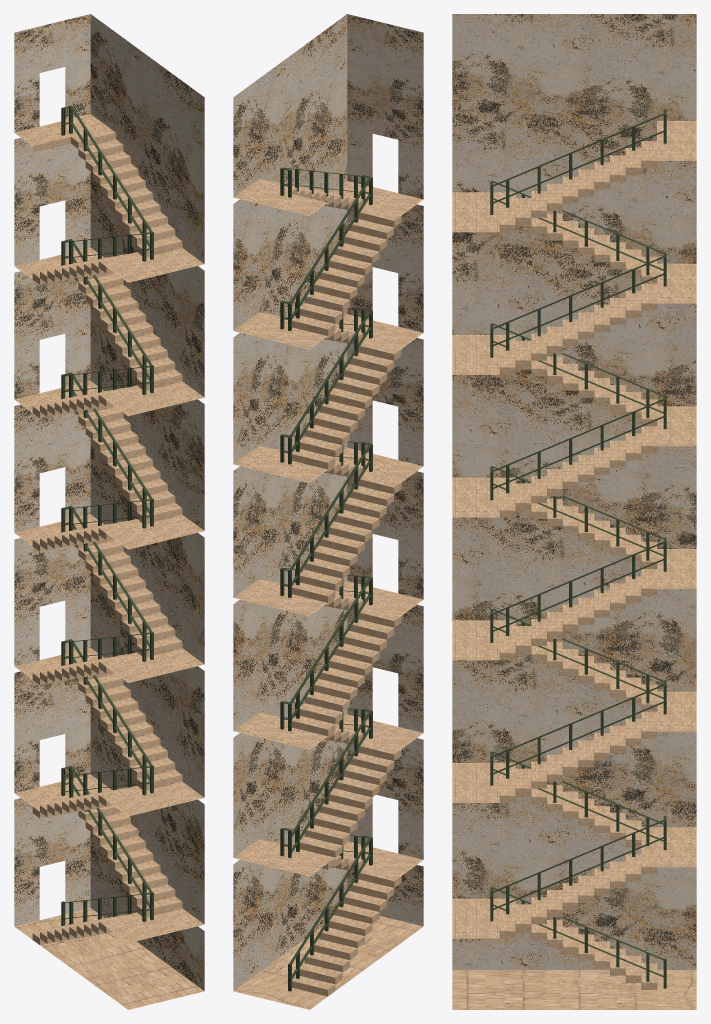
The model's file is stair_case.glb.
3 renders of one model, left to right at view 1: azimuth 30°, elevation 25°; view 2: azimuth 150°, elevation 25°; view 3: azimuth 270°, elevation 25°, orthographic. The views are drawn at different scales.
Parts seen in each view (by area): view 1: StairCase12, Stairs2, Stairs2.001, Stairs2.004, Stairs2.007, Stairs2.010, Stairs2.013, Stairs2.020, Stairs2.016, Stairs2.009, Stairs2.003, Stairs2.006 (+1 smaller); view 2: StairCase12, Stairs2, Stairs2.004, Stairs2.007, Stairs2.001, Stairs2.013, Stairs2.010, Stairs2.020, Stairs2.016, Stairs2.003, Stairs2.006, Stairs2.009 (+1 smaller); view 3: StairCase12, Stairs2.013, Stairs2, Stairs2.004, Stairs2.001, Stairs2.007, Stairs2.010, Stairs2.016, Stairs2.003, Stairs2.006, Stairs2.020, Stairs2.012 (+1 smaller).
Boxes of the visible parts, bbox=[...] form: StairCase12: bbox=[14, 14, 204, 1009]; Stairs2: bbox=[32, 127, 182, 284]; Stairs2.001: bbox=[32, 272, 182, 418]; Stairs2.004: bbox=[32, 405, 182, 551]; Stairs2.007: bbox=[32, 538, 182, 684]; Stairs2.010: bbox=[32, 672, 182, 818]; Stairs2.013: bbox=[32, 788, 182, 944]; Stairs2.020: bbox=[61, 105, 153, 265]; Stairs2.016: bbox=[61, 766, 153, 925]; Stairs2.009: bbox=[61, 505, 153, 665]; Stairs2.003: bbox=[61, 239, 153, 398]; Stairs2.006: bbox=[61, 372, 153, 532]; StairCase12: bbox=[233, 14, 423, 1009]; Stairs2: bbox=[252, 178, 401, 335]; Stairs2.004: bbox=[252, 445, 401, 602]; Stairs2.007: bbox=[252, 579, 401, 736]; Stairs2.001: bbox=[252, 312, 401, 469]; Stairs2.013: bbox=[252, 839, 401, 996]; Stairs2.010: bbox=[252, 712, 401, 869]; Stairs2.020: bbox=[280, 167, 372, 330]; Stairs2.016: bbox=[280, 828, 372, 991]; Stairs2.003: bbox=[280, 301, 372, 463]; Stairs2.006: bbox=[280, 434, 372, 596]; Stairs2.009: bbox=[280, 567, 372, 730]; StairCase12: bbox=[452, 14, 696, 1009]; Stairs2.013: bbox=[499, 847, 657, 989]; Stairs2: bbox=[499, 141, 657, 283]; Stairs2.004: bbox=[499, 426, 657, 568]; Stairs2.001: bbox=[499, 283, 657, 426]; Stairs2.007: bbox=[499, 569, 657, 711]; Stairs2.010: bbox=[499, 711, 657, 847]; Stairs2.016: bbox=[490, 816, 666, 988]; Stairs2.003: bbox=[490, 252, 666, 417]; Stairs2.006: bbox=[490, 395, 666, 560]; Stairs2.020: bbox=[490, 109, 666, 275]; Stairs2.012: bbox=[490, 680, 666, 845].
Size of the model in its own units: 3 by 33.5 by 7.75.
4 materials, 4 textured.
